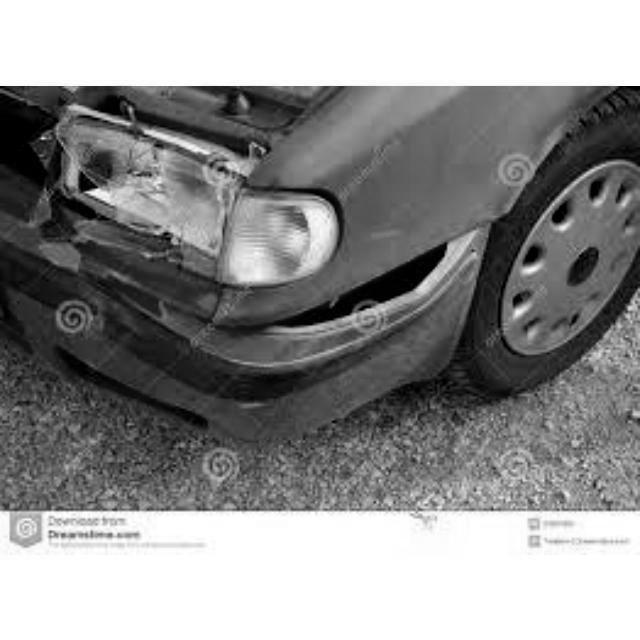Headlight-damage: (25, 117, 281, 275)
front-bumper-dent: (8, 232, 518, 424)
